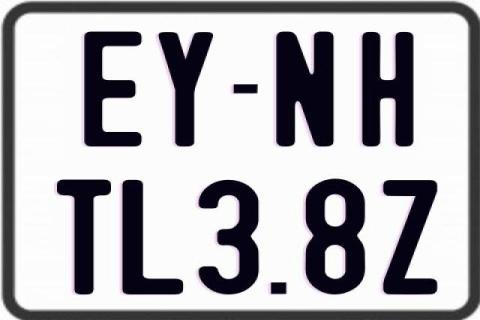0: (197, 180, 263, 297), (305, 176, 368, 296)
E: (82, 31, 143, 146)
H: (362, 29, 415, 145)
L: (121, 179, 183, 293)
N: (274, 30, 336, 148)
T: (55, 177, 114, 297)
Y: (155, 29, 211, 145)
Z: (380, 179, 437, 297)
